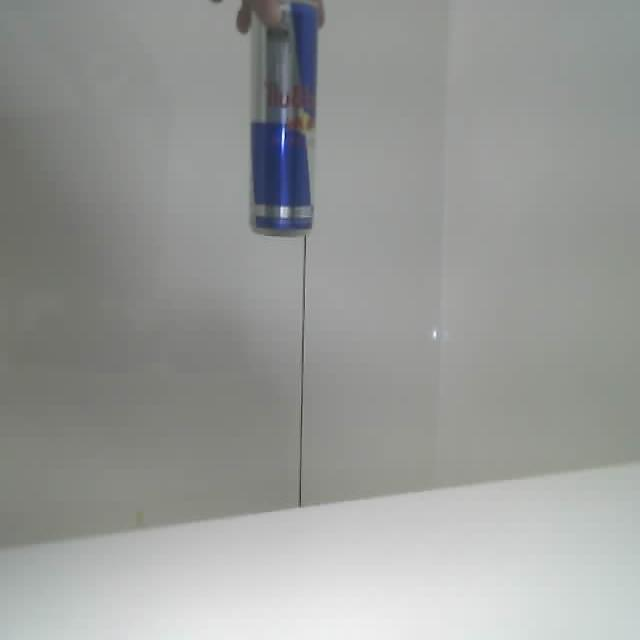redbull can: (250, 0, 318, 235)
